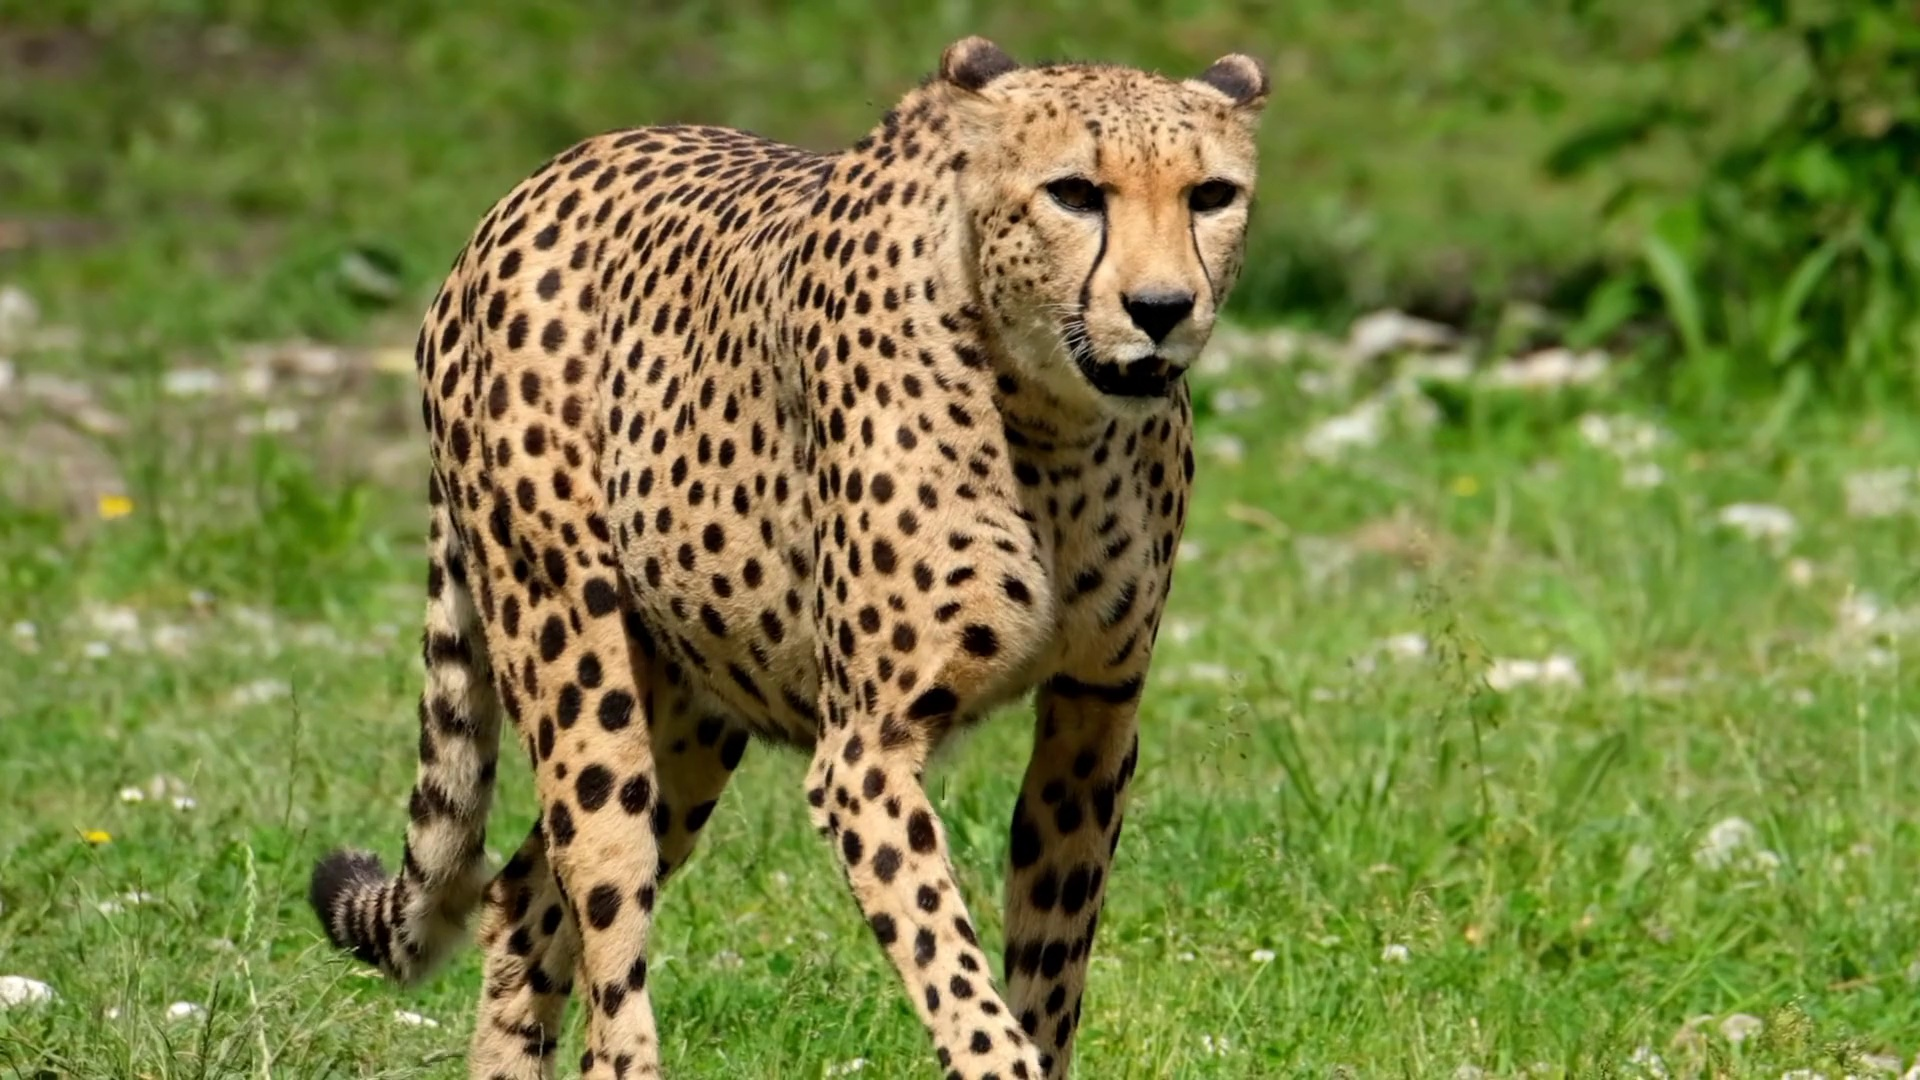Cheetah: (318, 32, 1276, 1080)
